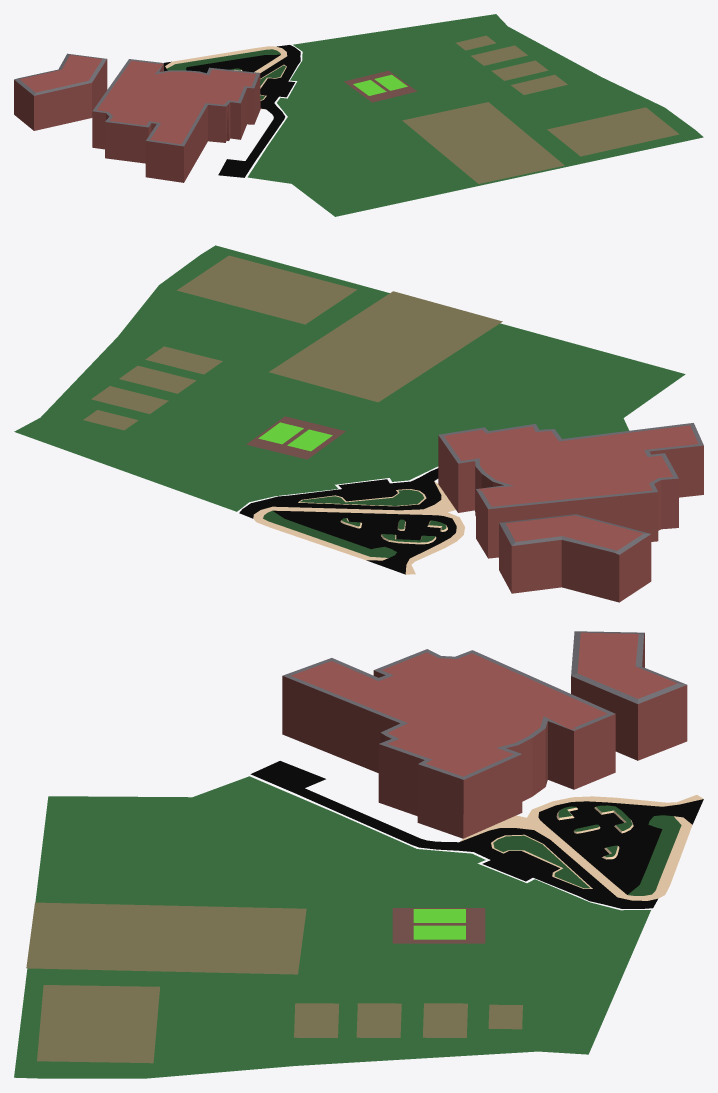
The model's file is cscelem17.glb.
3 renders of one model, top to bottom at view 1: azimuth 30°, elevation 25°; view 2: azimuth 150°, elevation 25°; view 3: azimuth 270°, elevation 25°, orthographic. The views are drawn at different scales.
Visible parts, largest first — view 1: CSC Elem; view 2: CSC Elem; view 3: CSC Elem.
Boxes of the visible parts, box(x1,y1,x2,y2) form: CSC Elem: box(14, 14, 703, 216); CSC Elem: box(14, 245, 703, 602); CSC Elem: box(14, 631, 703, 1078).
Size of the model in its own units: 0.5396 by 0.0378 by 0.4025.
